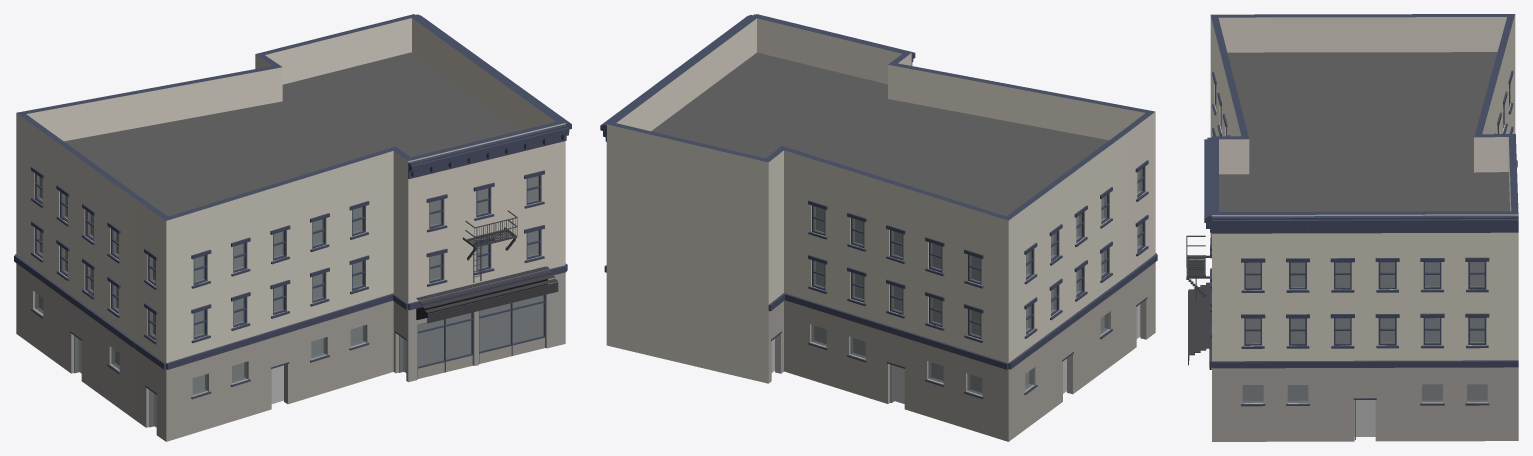
File: exterior.glb
The picture shows the model from 3 angles, left to right: view 1: azimuth 30°, elevation 25°; view 2: azimuth 150°, elevation 25°; view 3: azimuth 270°, elevation 25°; orthographic projection. The views are drawn at different scales.
Visible parts, largest first — view 1: shell, roof, glazing, trim, shadow-proxy, frames, storefront, awning-spans-2, awning-valance-2, fire-escape; view 2: shell, roof, trim, glazing, shadow-proxy, frames; view 3: shell, roof, trim, shadow-proxy, glazing, frames, awning-spans-2, fire-escape.
Part boxes in pixels (x1,y1,x2,y2): shell: (16, 14, 565, 441); roof: (64, 52, 520, 216); glazing: (35, 175, 544, 395); trim: (14, 14, 571, 399); shadow-proxy: (39, 176, 542, 427); frames: (34, 173, 541, 340); storefront: (70, 294, 545, 427); awning-spans-2: (416, 266, 557, 317); awning-valance-2: (427, 282, 558, 323); fire-escape: (462, 210, 517, 282); shell: (606, 14, 1155, 441); roof: (651, 52, 1108, 216); trim: (600, 14, 1157, 399); glazing: (811, 168, 1142, 394); shadow-proxy: (771, 171, 1140, 403); frames: (812, 167, 1144, 339); shell: (1210, 14, 1518, 441); roof: (1219, 52, 1509, 211); trim: (1204, 70, 1518, 406); shadow-proxy: (1243, 262, 1487, 436); glazing: (1242, 262, 1487, 402); frames: (1215, 84, 1510, 345); awning-spans-2: (1188, 282, 1211, 360); fire-escape: (1186, 235, 1211, 302).
Bounding box in the file's own units: 23.24 × 11.97 × 15.89.
